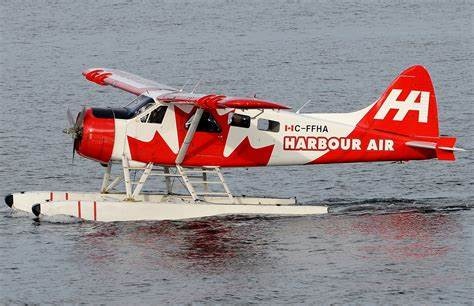Aeronef_commercial: (2, 59, 474, 223)
